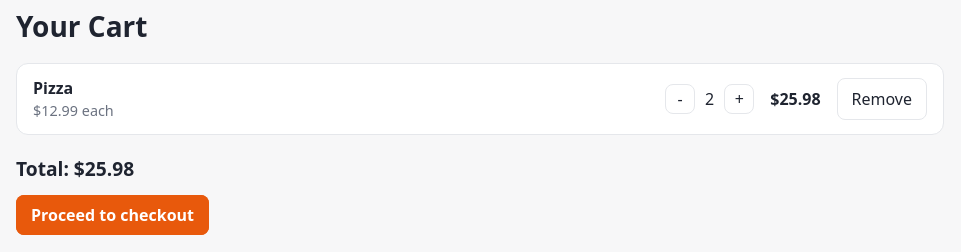
Test: Cart › increases and decreases quantity
Expected: the text "Pizza" is shown, [33,77,73,99]
Click the button named "increase quantity of pizza" at (739, 99), box [724,84,754,114]
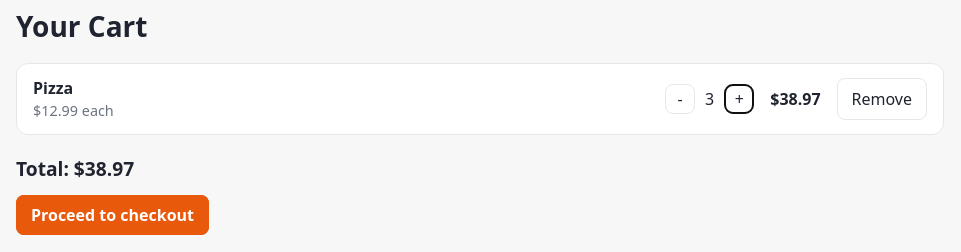
Expected: the text with test id "qty-1" reads "3", [705,88,714,110]
Click the button named "decrease quantity of pizza" at (680, 99), box [665,84,695,114]
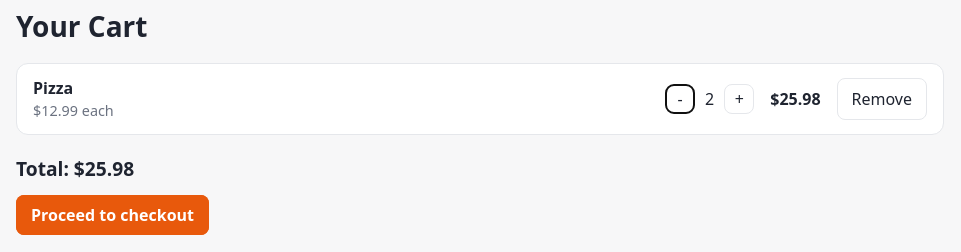
Expected: the text with test id "qty-1" reads "2", [705,88,714,110]
